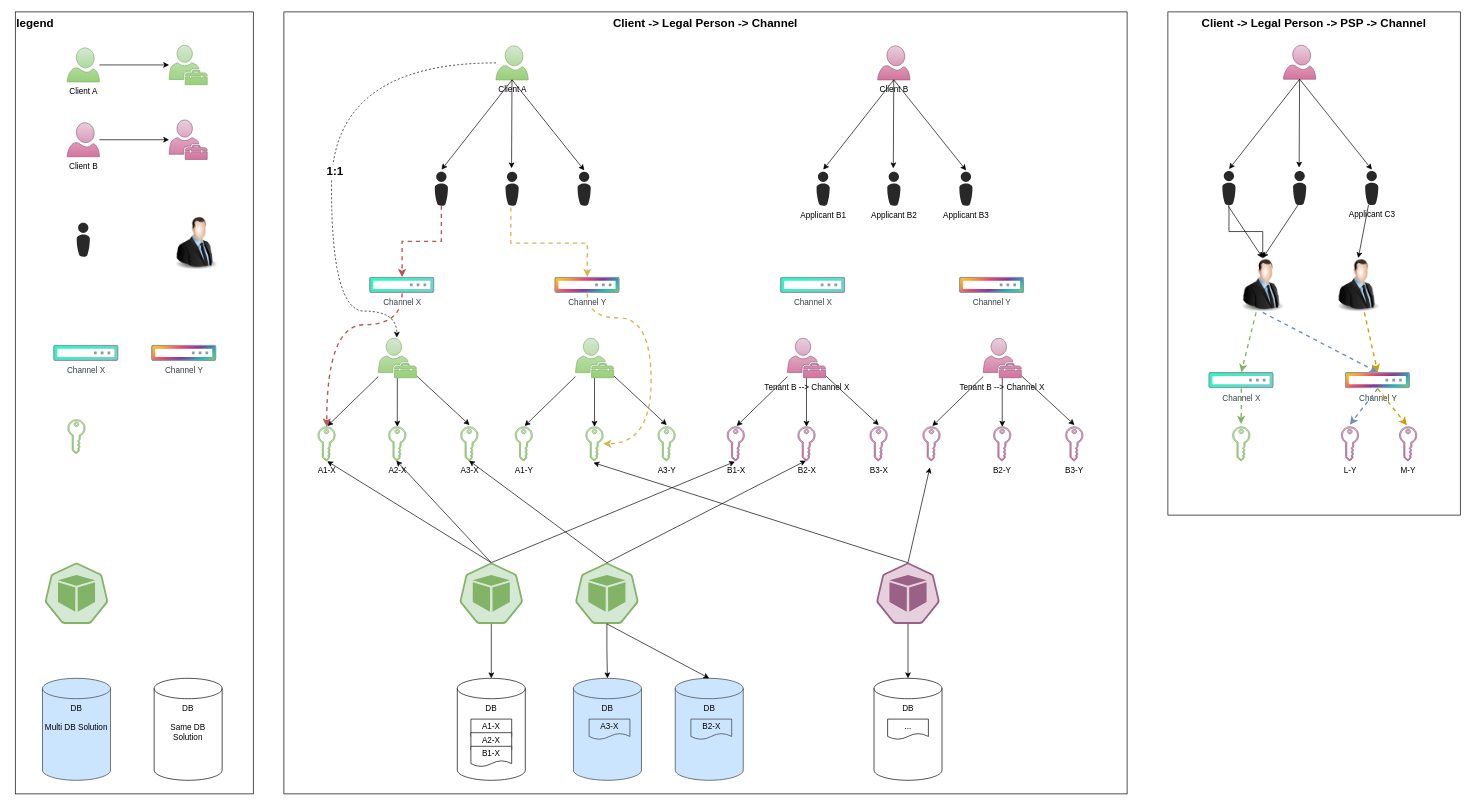
The diagram is 1472 pixels wide and 806 high, and some of its shapes have lost their labels. The shapes that lost their labels are listed below. From the top down, each one's centre as x and y in pixels, then its label:
pixel 187 65: Tenant A
pixel 1299 62: Client C
pixel 187 139: Tenant B
pixel 441 188: Applicant A1
pixel 511 188: Applicant A2
pixel 583 188: Applicant A3
pixel 1228 188: Applicant C1
pixel 1299 188: Applicant C2
pixel 83 239: Legal person or Applicant
pixel 196 243: Payment Service Provider PSP
pixel 1262 285: PSP-L
pixel 1358 285: PSP-M
pixel 397 358: Tenant A --> Channel X
pixel 594 358: Tenant A --> Channel Y
pixel 76 436: Credentials
pixel 594 443: A2-Y
pixel 931 443: B1-Y
pixel 1241 443: L-X
pixel 76 593: Channel Gateway
pixel 491 593: X-Channel-Gateway
pixel 607 593: A3-X-Channel-Gateway
pixel 908 593: Y-Channel-Gateway
